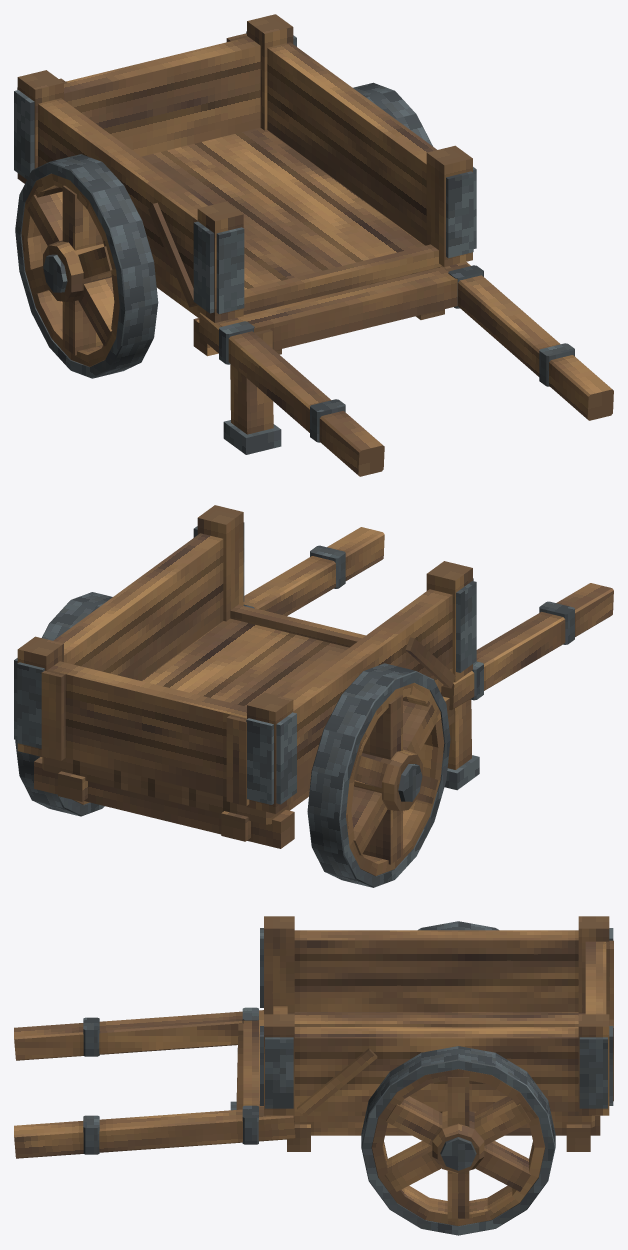
Rendered from pixel-fantasy-cargo-handcart.glb.
The picture shows the model from 3 angles, top to bottom: view 1: azimuth 30°, elevation 25°; view 2: azimuth 150°, elevation 25°; view 3: azimuth 270°, elevation 25°; orthographic projection. The views are drawn at different scales.
Parts seen in each view (by area): view 1: CartBody, WheelLeft, Tailboard, WheelRight; view 2: CartBody, WheelLeft, Tailboard, WheelRight; view 3: CartBody, WheelRight, Tailboard, WheelLeft.
Part boxes in pixels (x1,y1,x2,y2): CartBody: (14, 14, 613, 476); WheelLeft: (15, 154, 158, 378); Tailboard: (59, 33, 260, 156); WheelRight: (353, 82, 432, 146); CartBody: (14, 505, 613, 848); WheelLeft: (307, 663, 450, 887); Tailboard: (41, 661, 249, 805); WheelRight: (15, 592, 112, 816); CartBody: (14, 916, 613, 1158); WheelRight: (361, 1046, 555, 1235); Tailboard: (585, 940, 613, 1101); WheelLeft: (418, 921, 498, 930).
Size of the model in its own units: 1.65 by 0.9789 by 2.73.
Materials: 1 (1 with a texture image).
